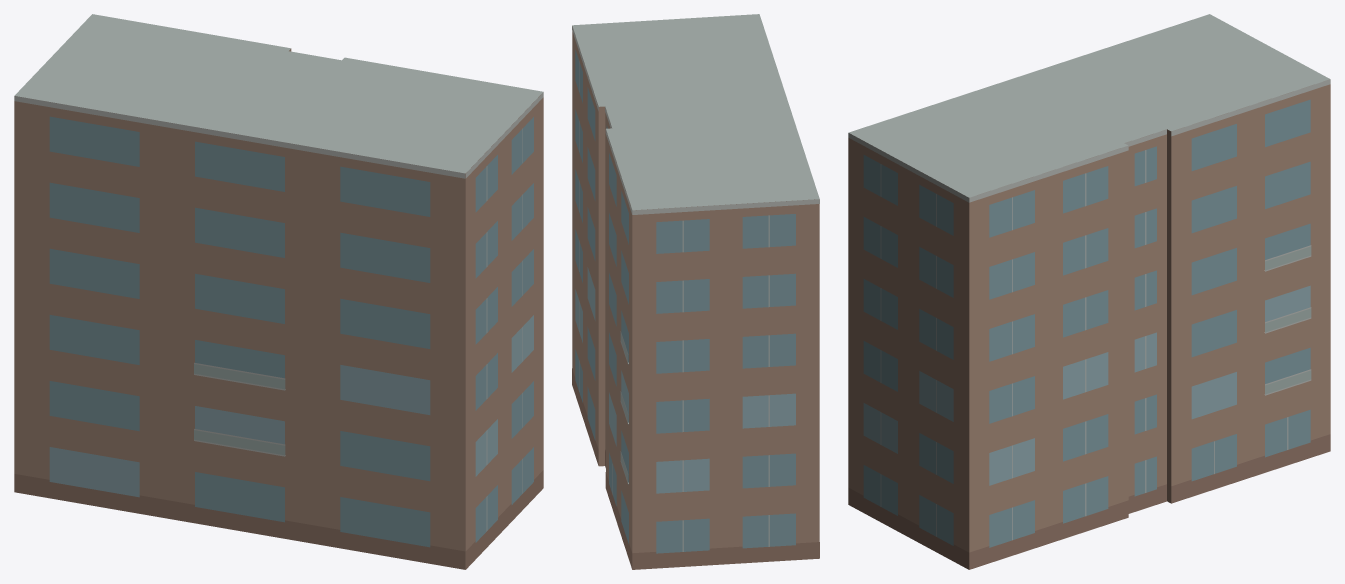
File: survey-upis-32670135.glb
3 views of the same model, side by side, from view 1: azimuth 30°, elevation 25°; view 2: azimuth 150°, elevation 25°; view 3: azimuth 270°, elevation 25° (orthographic). The views are drawn at different scales.
Visible parts, largest first — view 1: survey-upis-32670135.tmp; view 2: survey-upis-32670135.tmp; view 3: survey-upis-32670135.tmp.
Boxes of the visible parts, left/top/right/bottom form: survey-upis-32670135.tmp: left=14, top=14, right=543, bottom=569; survey-upis-32670135.tmp: left=572, top=14, right=819, bottom=569; survey-upis-32670135.tmp: left=848, top=14, right=1330, bottom=569.
Size of the model in its own units: 19.39 by 18.3 by 21.5.
